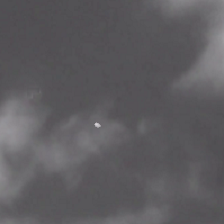Target: (93, 121, 102, 128)
